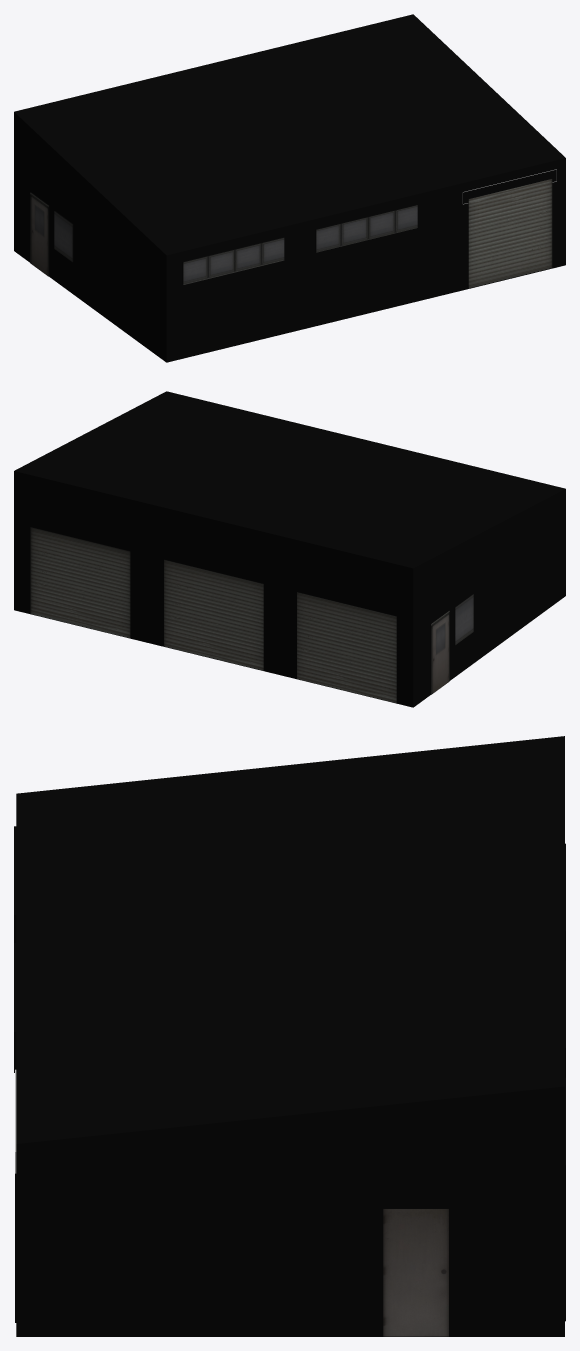
Rendered from warehouse_Inside.fbx.
3 renders of one model, top to bottom at view 1: azimuth 30°, elevation 25°; view 2: azimuth 150°, elevation 25°; view 3: azimuth 270°, elevation 25°, orthographic. The views are drawn at different scales.
Parts seen in each view (by area): view 1: warehouse.001, okna+dveri; view 2: warehouse.001, okna+dveri; view 3: warehouse.001, okna+dveri.
Boxes of the visible parts, left/top/right/bottom form: warehouse.001: left=14, top=14, right=565, bottom=362; okna+dveri: left=30, top=179, right=552, bottom=288; warehouse.001: left=14, top=391, right=565, bottom=707; okna+dveri: left=30, top=527, right=473, bottom=703; warehouse.001: left=14, top=736, right=565, bottom=1336; okna+dveri: left=383, top=1209, right=448, bottom=1336.
Bounding box in the file's own units: 244 × 81.26 × 162.
